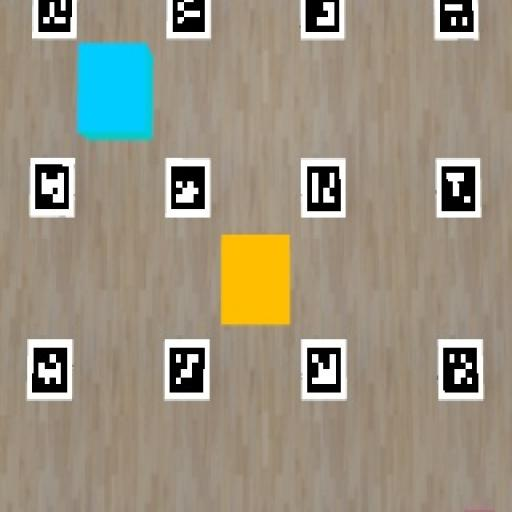car: (77, 43, 153, 140)
fire: (221, 235, 291, 326)
